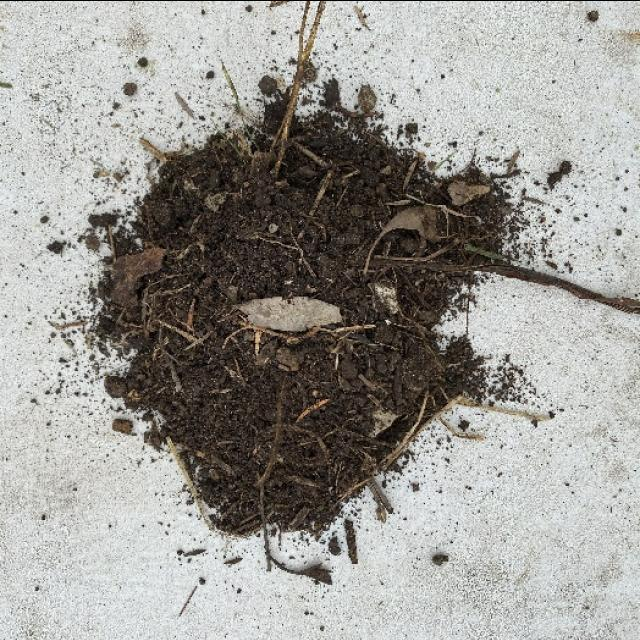organik: (92, 81, 534, 536)
